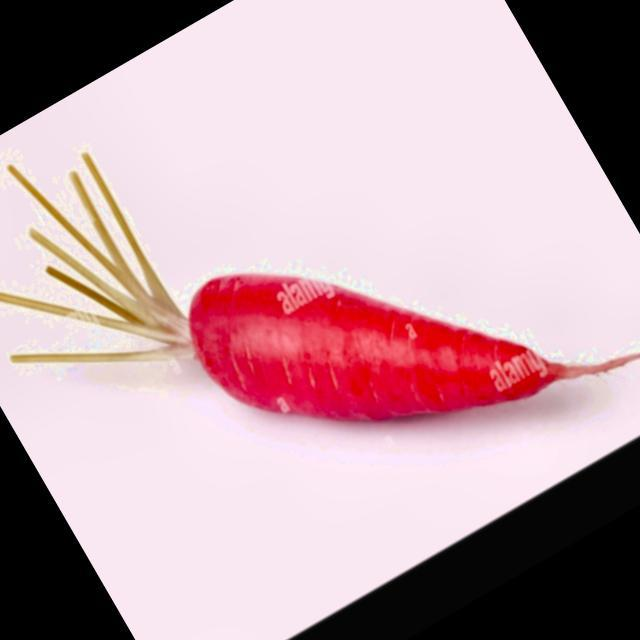carrot: (0, 154, 640, 419)
